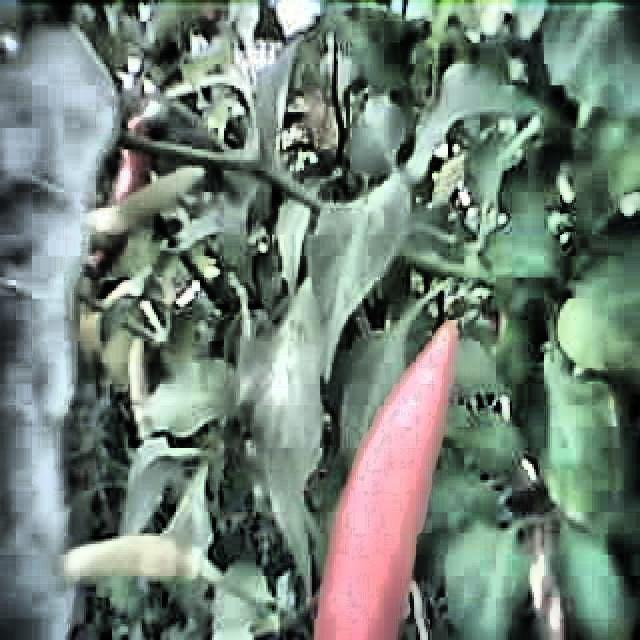Cabai: (332, 317, 447, 640)
